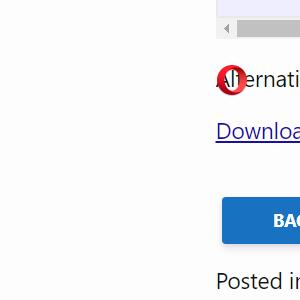opera: (217, 64, 247, 95)
